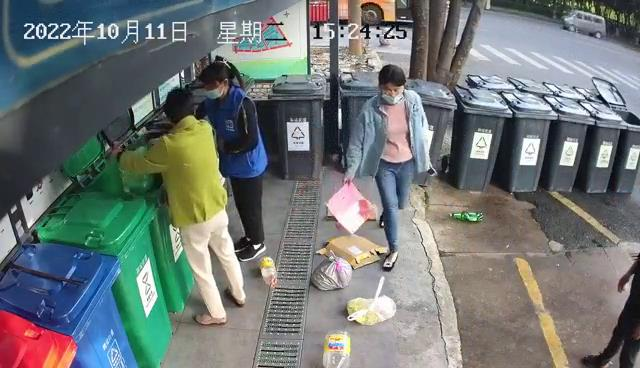garbage-bag: (345, 274, 397, 327), (309, 249, 353, 292)
person: (110, 87, 247, 327)
suliaozhipin: (321, 327, 352, 368), (257, 255, 279, 289), (447, 209, 486, 224)
worker: (341, 63, 431, 271), (193, 54, 268, 262)
zhizhipin: (322, 179, 379, 234), (314, 232, 389, 270)
